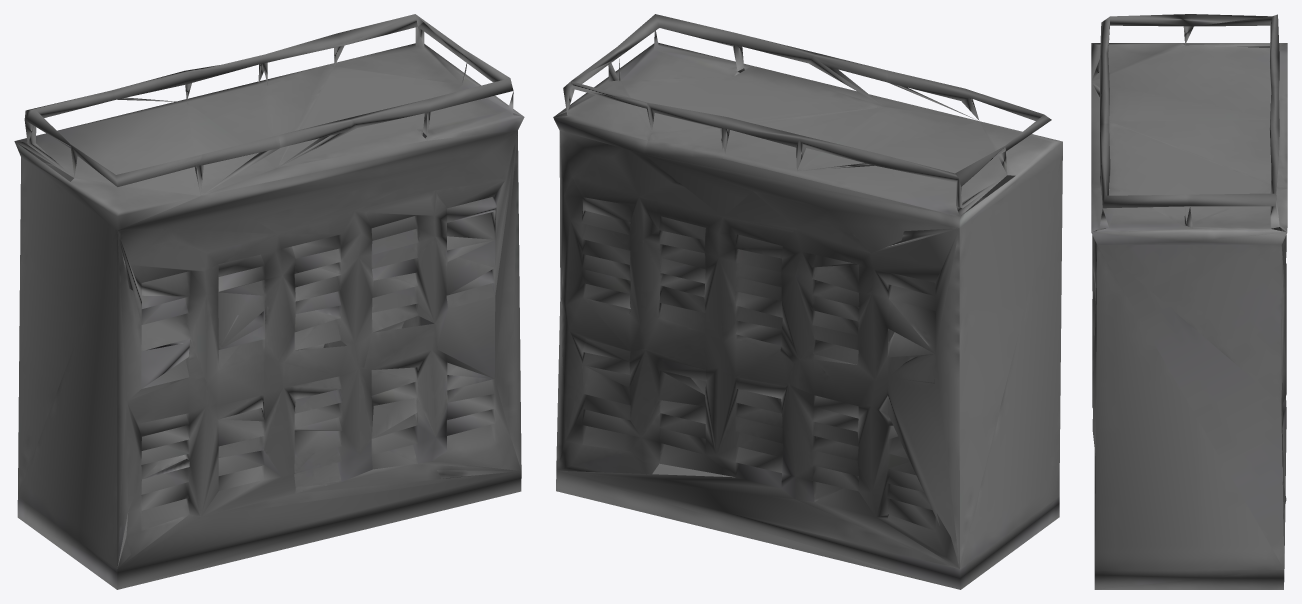
The picture shows the model from 3 angles, left to right: view 1: azimuth 30°, elevation 25°; view 2: azimuth 150°, elevation 25°; view 3: azimuth 270°, elevation 25°; orthographic projection. The views are drawn at different scales.
Size of the model in its own units: 1.9 by 1.83 by 0.8307.
1 material, 1 textured.
